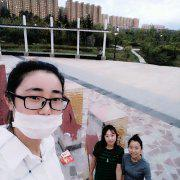NONE: (129, 146, 141, 158), (105, 134, 116, 146)
WRONG: (12, 86, 66, 140)
